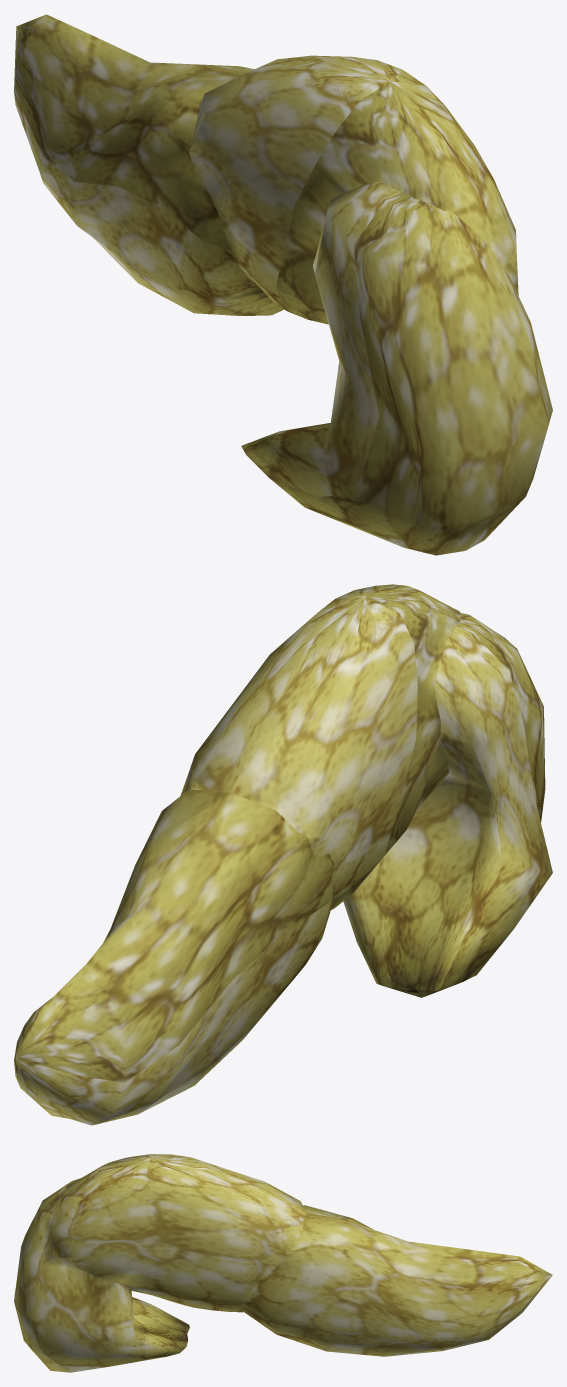
Rendered from Pancreas.fbx.
The picture shows the model from 3 angles, top to bottom: view 1: azimuth 30°, elevation 25°; view 2: azimuth 150°, elevation 25°; view 3: azimuth 270°, elevation 25°; orthographic projection. The views are drawn at different scales.
Visible parts, largest first — view 1: Pancreas; view 2: Pancreas; view 3: Pancreas.
Boxes of the visible parts, bbox=[...] form: Pancreas: bbox=[14, 14, 552, 555]; Pancreas: bbox=[14, 584, 552, 1125]; Pancreas: bbox=[14, 1154, 552, 1372].
Bounding box in the file's own units: 166 × 325 × 729.
Materials: 1 (1 with a texture image).
